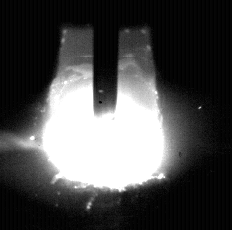arame: (94, 0, 119, 115)
poca: (41, 0, 166, 230)
